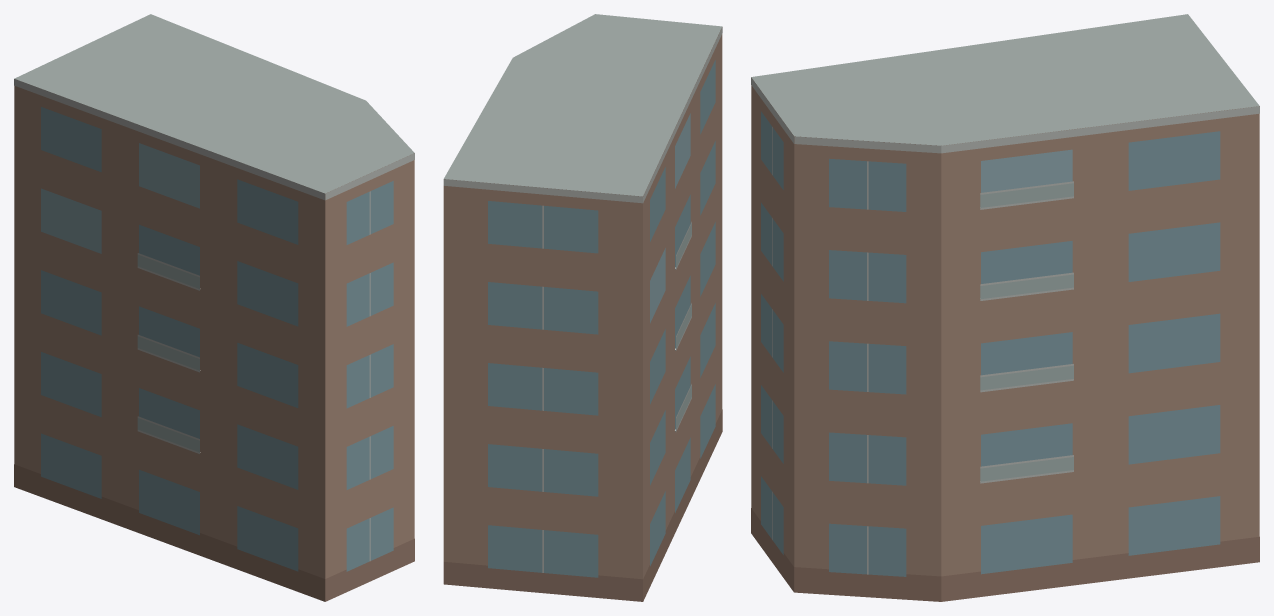
File: survey-upis-32768133.glb
3 renders of one model, left to right at view 1: azimuth 30°, elevation 25°; view 2: azimuth 150°, elevation 25°; view 3: azimuth 270°, elevation 25°, orthographic. The views are drawn at different scales.
Visible parts, largest first — view 1: survey-upis-32768133.tmp; view 2: survey-upis-32768133.tmp; view 3: survey-upis-32768133.tmp.
Part boxes in pixels (box(x1,y1,x2,y2)): survey-upis-32768133.tmp: box(14, 14, 414, 601); survey-upis-32768133.tmp: box(443, 14, 722, 601); survey-upis-32768133.tmp: box(751, 14, 1259, 601).
Bounding box in the file's own units: 8.99 × 14.5 × 14.66.
